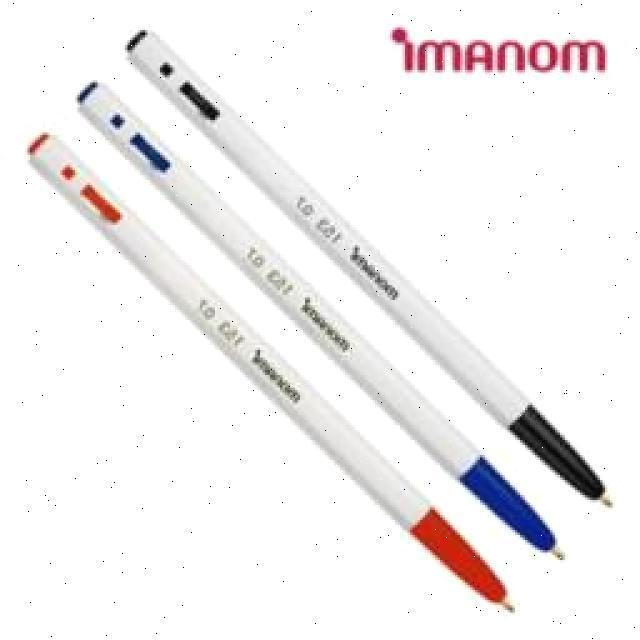pen: (120, 28, 615, 516)
